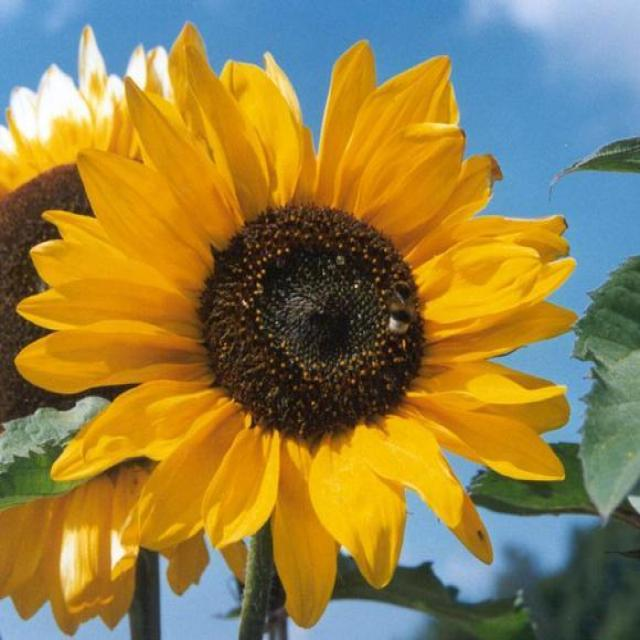sunflower: (12, 16, 581, 636), (2, 21, 305, 622)
